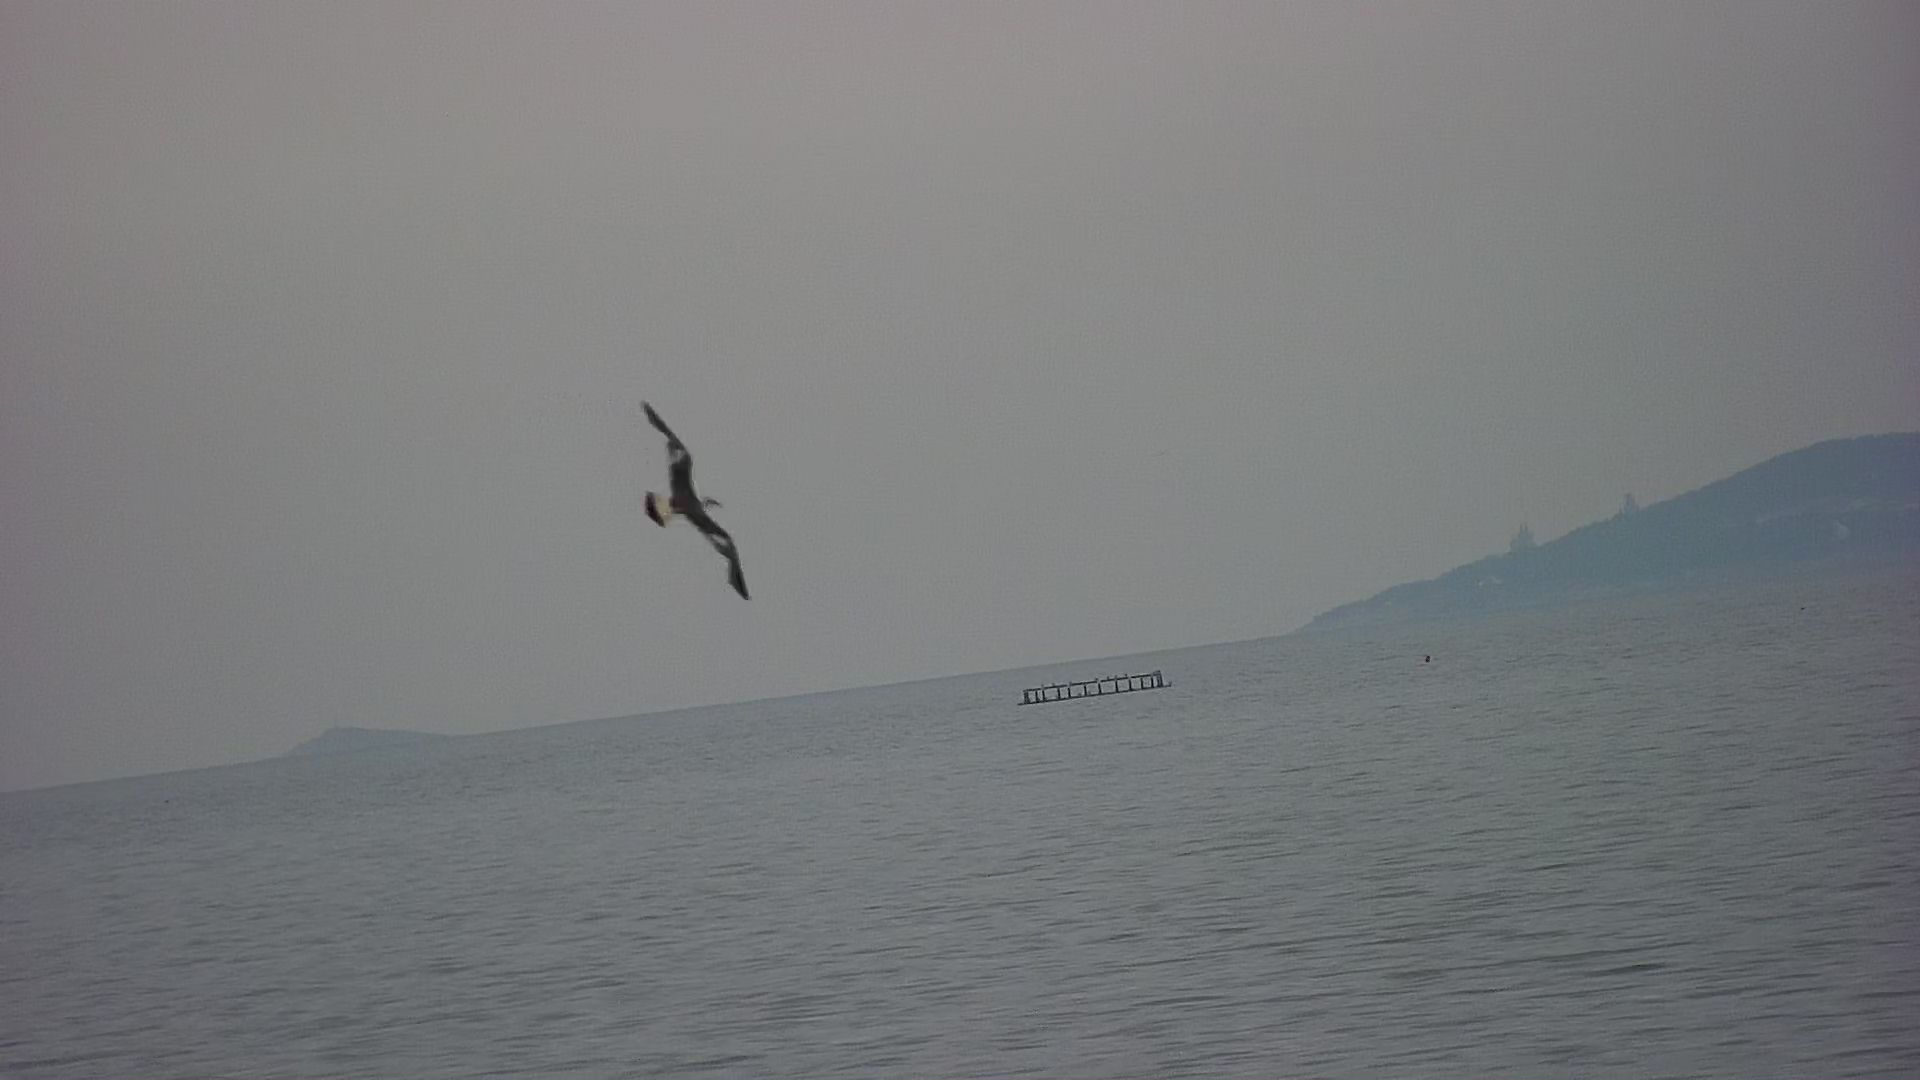platform: (1015, 669, 1178, 707)
